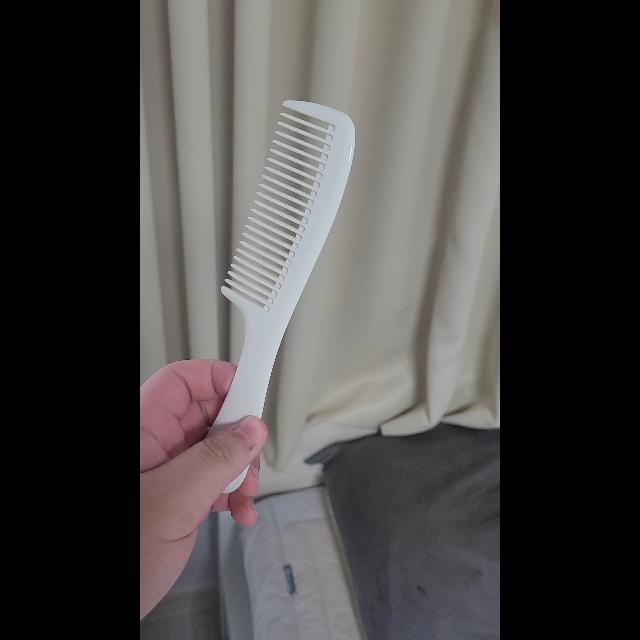COMB: (205, 99, 355, 493)
